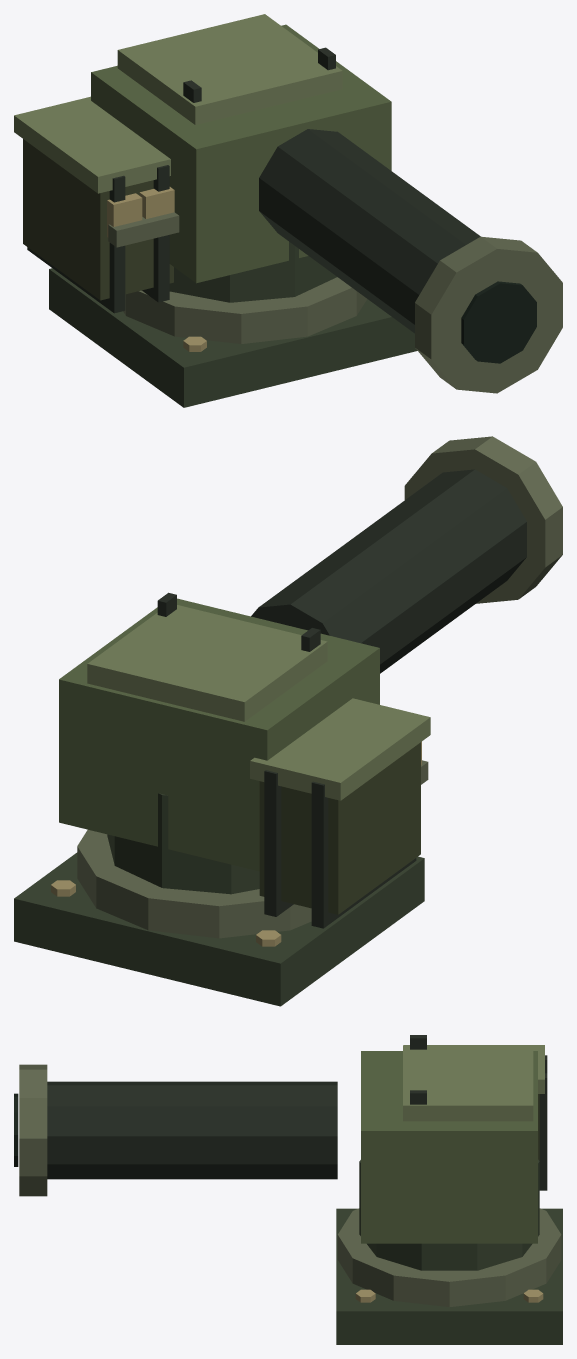
The model's file is bazooka.obj.
3 views of the same model, one above another, from view 1: azimuth 30°, elevation 25°; view 2: azimuth 150°, elevation 25°; view 3: azimuth 270°, elevation 25° (orthographic). The views are drawn at different scales.
Visible parts, largest first — view 1: MOVING.005, BASE.013; view 2: MOVING.005, BASE.013; view 3: MOVING.005, BASE.013.
Part boxes in pixels (x1=…): MOVING.005: x1=14, y1=14, x2=562, y2=393; BASE.013: x1=49, y1=268, x2=417, y2=407; MOVING.005: x1=59, y1=436, x2=562, y2=928; BASE.013: x1=14, y1=829, x2=424, y2=1006; MOVING.005: x1=14, y1=1035, x2=547, y2=1270; BASE.013: x1=336, y1=1208, x2=562, y2=1344.
Bounding box in the file's own units: 0.9225 × 0.815 × 1.77.
1 material, 1 textured.
